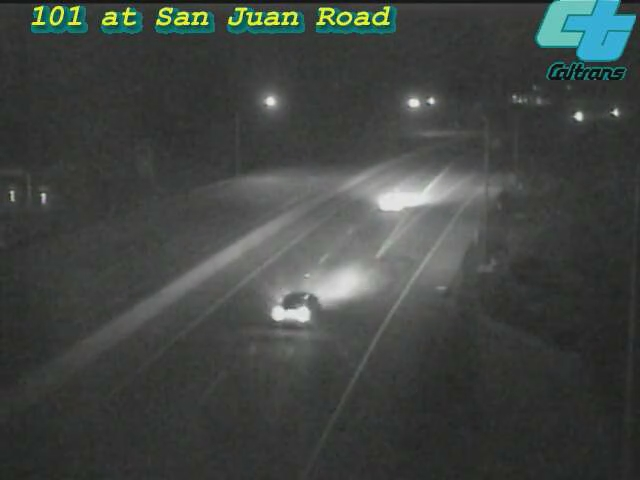vehicle: (349, 164, 429, 244), (257, 268, 337, 348), (552, 91, 602, 141), (590, 87, 640, 137)
